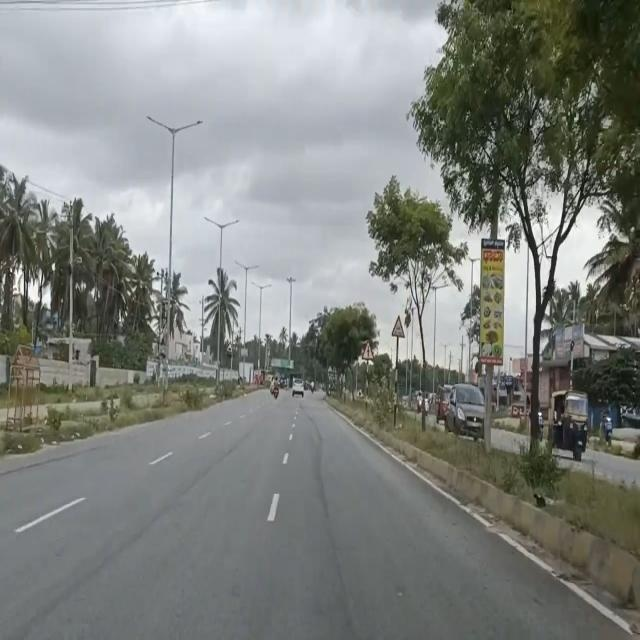bien_nguy_hiem: (391, 314, 405, 339), (362, 339, 375, 362), (226, 342, 234, 353)
